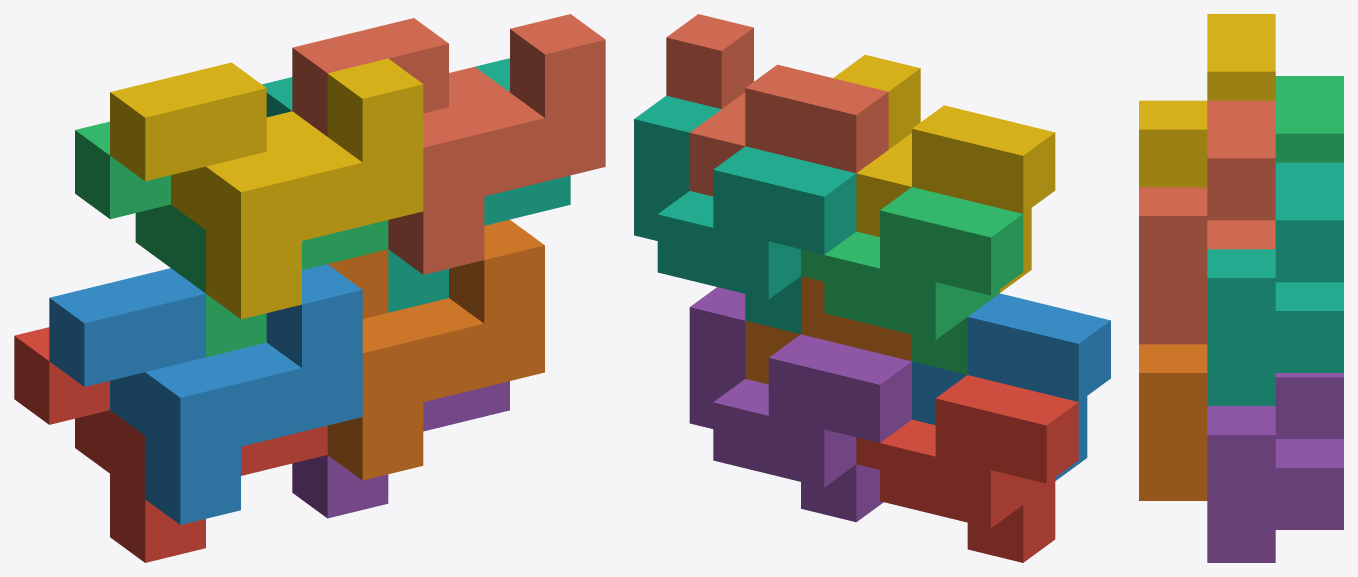
File: tiling.obj
The picture shows the model from 3 angles, left to right: view 1: azimuth 30°, elevation 25°; view 2: azimuth 150°, elevation 25°; view 3: azimuth 270°, elevation 25°; orthographic projection. The views are drawn at different scales.
Visible parts, largest first — view 1: copy_1_domain_4, copy_1_domain_2, copy_1_domain_8, copy_1_domain_6, copy_1_domain_1, copy_1_domain_3, copy_1_domain_5, copy_1_domain_7; view 2: copy_1_domain_5, copy_1_domain_7, copy_1_domain_1, copy_1_domain_3, copy_1_domain_8, copy_1_domain_4, copy_1_domain_2, copy_1_domain_6; view 3: copy_1_domain_7, copy_1_domain_5, copy_1_domain_8, copy_1_domain_4, copy_1_domain_6, copy_1_domain_3.
Boxes of the visible parts, x1,y1,x2,y2 form: copy_1_domain_4: (110, 58, 423, 319); copy_1_domain_2: (49, 264, 362, 524); copy_1_domain_8: (292, 14, 605, 274); copy_1_domain_6: (327, 219, 544, 480); copy_1_domain_1: (14, 327, 327, 562); copy_1_domain_3: (75, 121, 388, 357); copy_1_domain_5: (292, 381, 509, 518); copy_1_domain_7: (262, 58, 570, 312); copy_1_domain_5: (689, 287, 911, 522); copy_1_domain_7: (634, 95, 856, 334); copy_1_domain_1: (856, 375, 1078, 562); copy_1_domain_3: (801, 187, 1023, 374); copy_1_domain_8: (666, 14, 888, 196); copy_1_domain_4: (833, 54, 1055, 292); copy_1_domain_2: (912, 293, 1110, 480); copy_1_domain_6: (745, 276, 911, 384); copy_1_domain_7: (1207, 162, 1343, 405); copy_1_domain_5: (1207, 373, 1343, 562); copy_1_domain_8: (1139, 100, 1275, 344); copy_1_domain_4: (1139, 14, 1275, 187); copy_1_domain_6: (1139, 344, 1207, 500); copy_1_domain_3: (1275, 76, 1343, 162).
Bounding box in the file's own units: 8 × 7 × 3.
